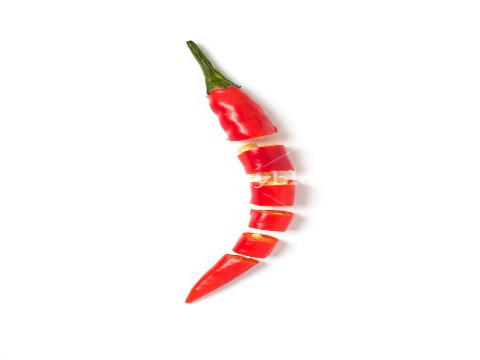Chilli: (168, 34, 319, 323)
